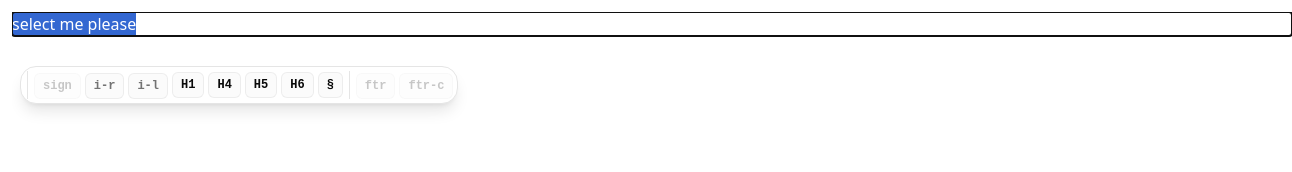
Test: EditorSelectionToolbar — вставка § та wrapper-маркери › i-r/i-l лишаються активними в advanced-режимі (worksInAdvanced: true)
Click the button "i-r" at (105, 86), box [85,73,124,99]
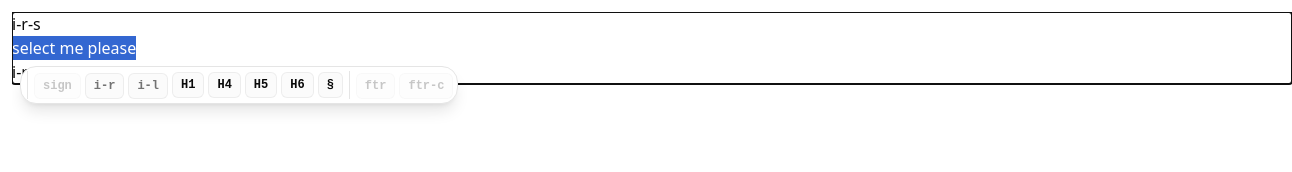
expect the text box with test id "editor" shows "i-r-s": met, box [12,13,136,83]
